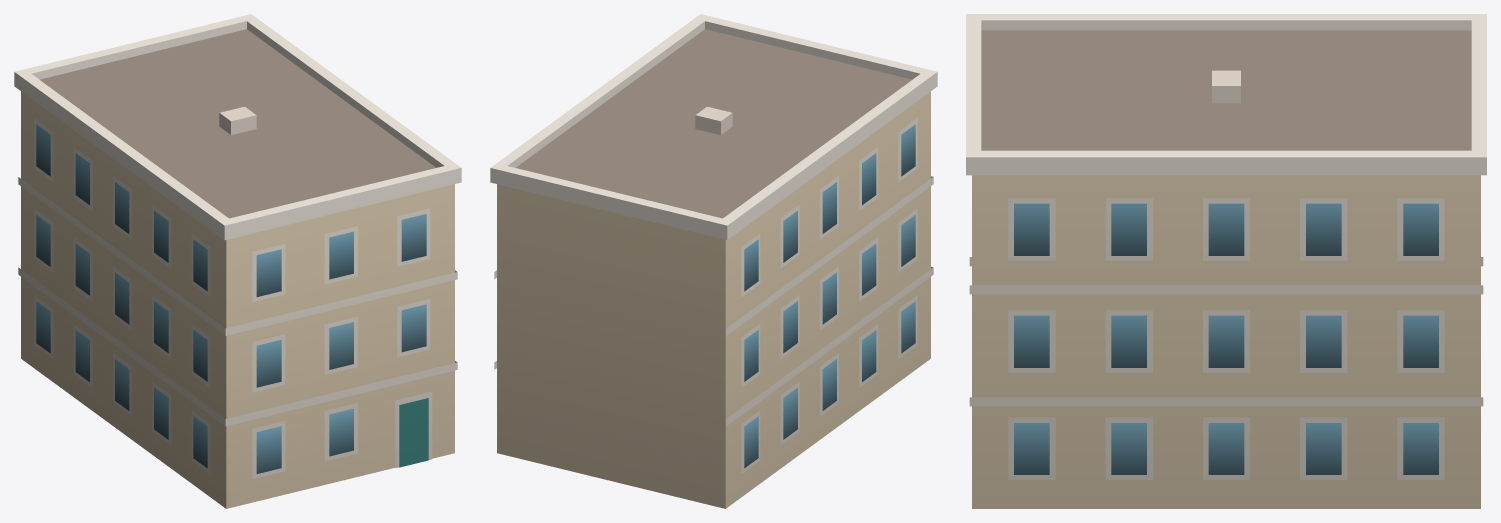
The model's file is boylston_s13_far.glb.
The picture shows the model from 3 angles, left to right: view 1: azimuth 30°, elevation 25°; view 2: azimuth 150°, elevation 25°; view 3: azimuth 270°, elevation 25°; orthographic projection. The views are drawn at different scales.
Visible parts, largest first — view 1: boylston_s13_far; view 2: boylston_s13_far; view 3: boylston_s13_far.
Part boxes in pixels (left/top/right/bottom): boylston_s13_far: left=14, top=14, right=461, bottom=508; boylston_s13_far: left=490, top=14, right=937, bottom=508; boylston_s13_far: left=966, top=14, right=1486, bottom=508.
Size of the model in its own units: 9.32 by 10.97 by 14.32.
Materials: 1 (1 with a texture image).
